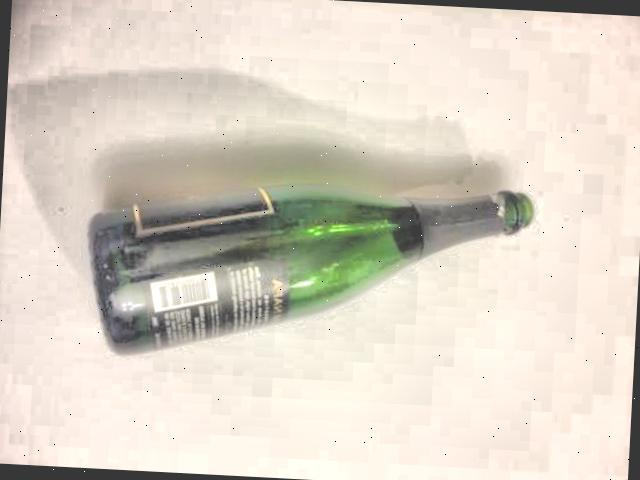Bottles: (62, 141, 538, 397)
